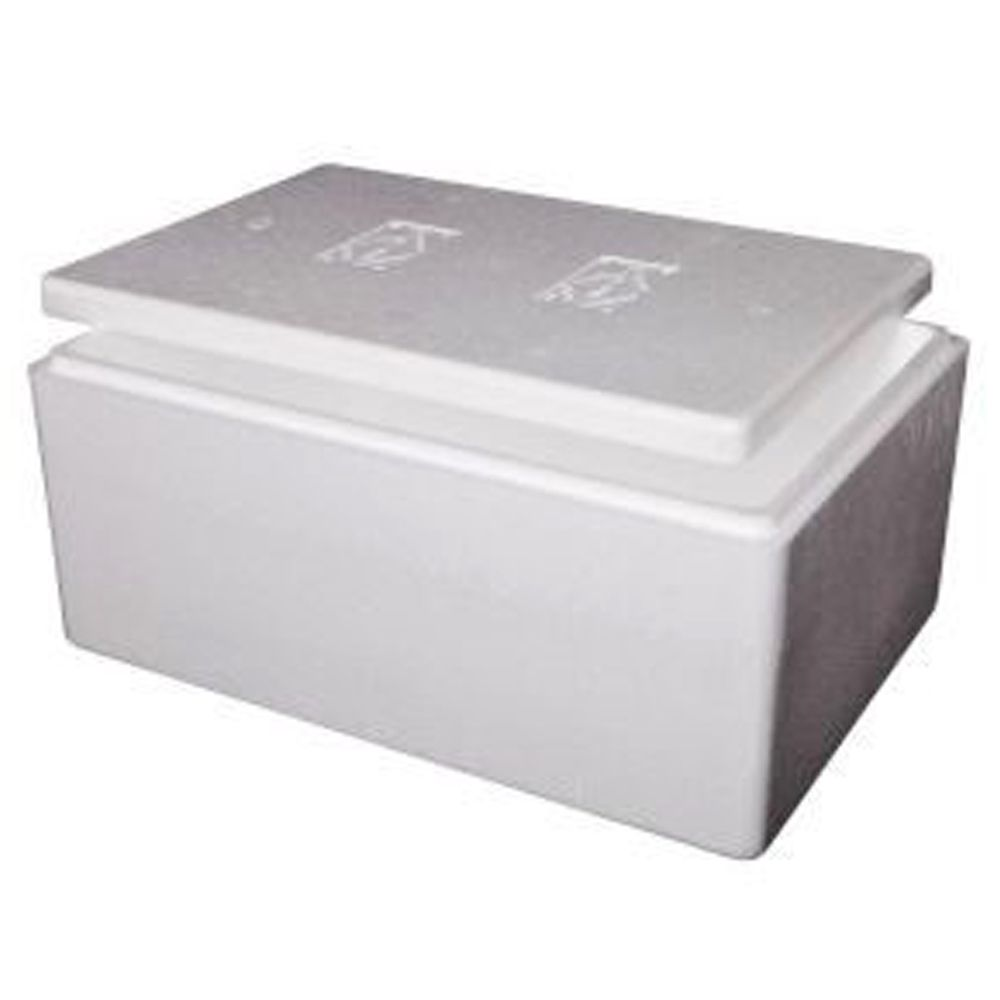Foam Box: (18, 158, 975, 866)
